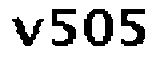0: (82, 7, 114, 48)
5: (47, 4, 80, 51), (116, 7, 149, 49)
v: (8, 15, 44, 51)
